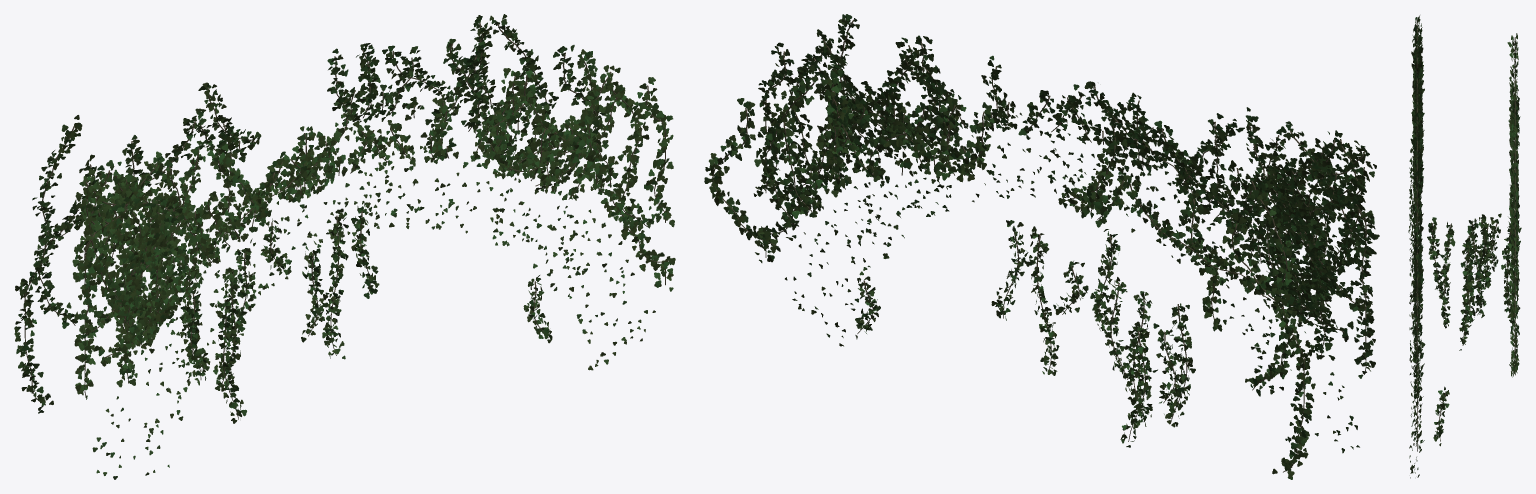
The model's file is ER_Rideau_Lierre_Arc_6m5.gltf.
The picture shows the model from 3 angles, left to right: view 1: azimuth 30°, elevation 25°; view 2: azimuth 150°, elevation 25°; view 3: azimuth 270°, elevation 25°; orthographic projection. The views are drawn at different scales.
Parts seen in each view (by area): view 1: ER_Rideau_Lierre_Arc_6m5_FEU.001, ER_Rideau_Lierre_Arc_6m5_TIG.001; view 2: ER_Rideau_Lierre_Arc_6m5_FEU.001, ER_Rideau_Lierre_Arc_6m5_TIG.001; view 3: ER_Rideau_Lierre_Arc_6m5_FEU.001, ER_Rideau_Lierre_Arc_6m5_TIG.001.
Part boxes in pixels (<box>): ER_Rideau_Lierre_Arc_6m5_FEU.001: <box>14,14,675,479</box>; ER_Rideau_Lierre_Arc_6m5_TIG.001: <box>24,22,665,419</box>; ER_Rideau_Lierre_Arc_6m5_FEU.001: <box>704,14,1379,479</box>; ER_Rideau_Lierre_Arc_6m5_TIG.001: <box>712,19,1366,472</box>; ER_Rideau_Lierre_Arc_6m5_FEU.001: <box>1408,15,1521,478</box>; ER_Rideau_Lierre_Arc_6m5_TIG.001: <box>1416,20,1515,451</box>.
Bounding box in the file's own units: 6.74 × 3.5 × 1.34.
